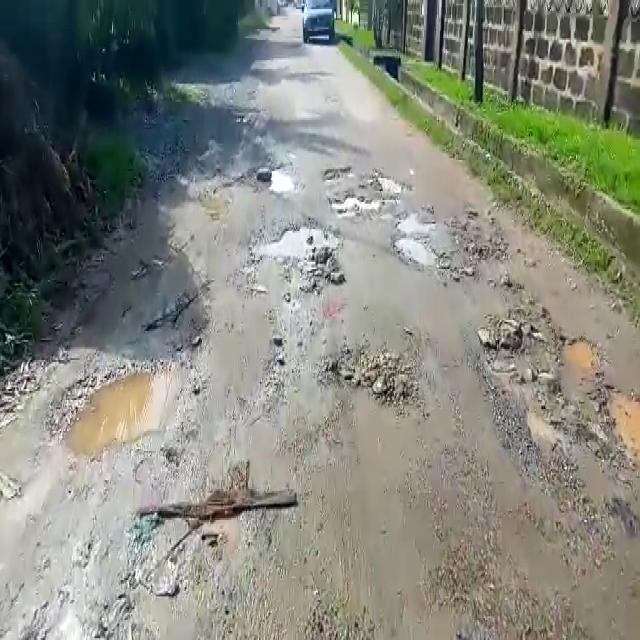pothole: (61, 351, 193, 462), (239, 222, 351, 293), (600, 385, 640, 468), (393, 210, 443, 269), (322, 190, 398, 216), (560, 330, 600, 373), (264, 163, 300, 196)
